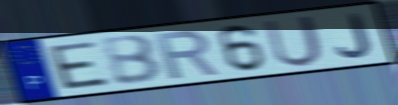6: (216, 23, 267, 73)
B: (98, 33, 165, 87)
E: (45, 39, 112, 91)
J: (334, 11, 374, 60)
R: (153, 29, 222, 82)
U: (261, 13, 325, 69)
